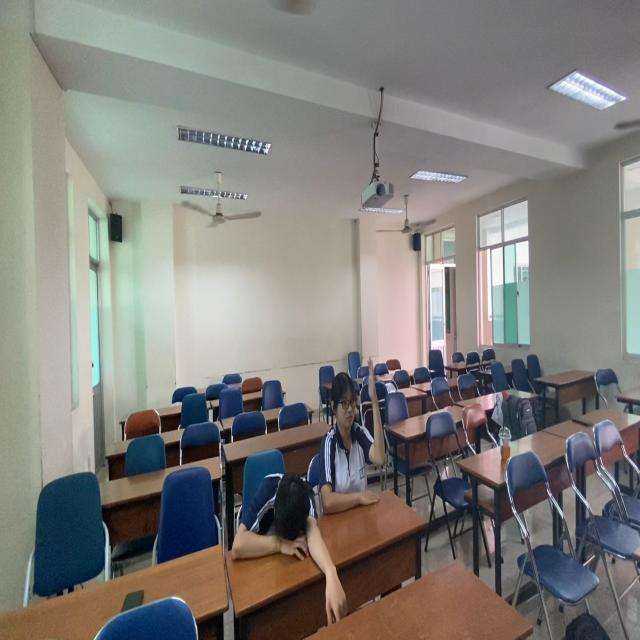raise_hand: (323, 353, 389, 516)
sleep: (229, 463, 324, 566)
